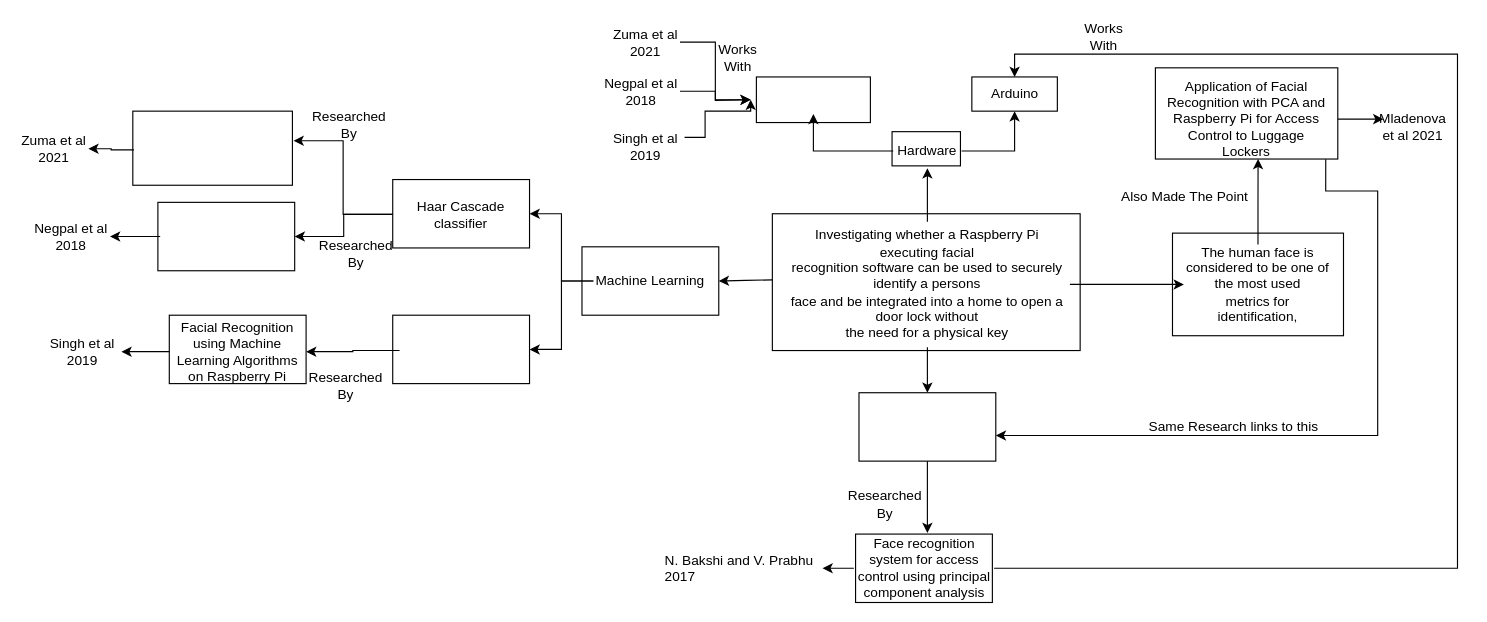
Image size: 1487x622. Some labels were removed from this diagram. Here are the shapes that lost their labels. From the top down, the centre of each, then its label:
At (812,99): "Raspberry Pi".
At (212,147): "Intrusion Detection System using Raspberry Pi and Telegram Integration".
At (226,236): "Facial Detection and Recognition using OpenCV on Raspberry Pi Zero".
At (461,349): "Histogram oriented Gradients".
At (927,426): "Principal Component Analysis".
